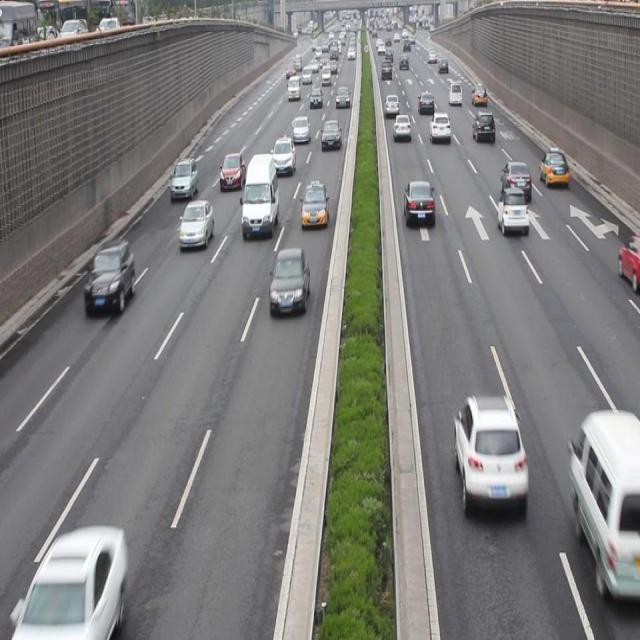car: (11, 527, 126, 640), (453, 391, 528, 510), (84, 237, 135, 313), (268, 247, 309, 314), (179, 197, 214, 250), (495, 185, 527, 235), (403, 178, 434, 229), (300, 181, 328, 228), (538, 147, 570, 187), (500, 160, 531, 200), (170, 158, 199, 199), (218, 150, 244, 188), (271, 136, 296, 174), (472, 111, 496, 143), (321, 118, 342, 151), (429, 110, 450, 142), (291, 115, 311, 146), (392, 113, 412, 142)
truck: (568, 406, 640, 595), (242, 154, 279, 234)
